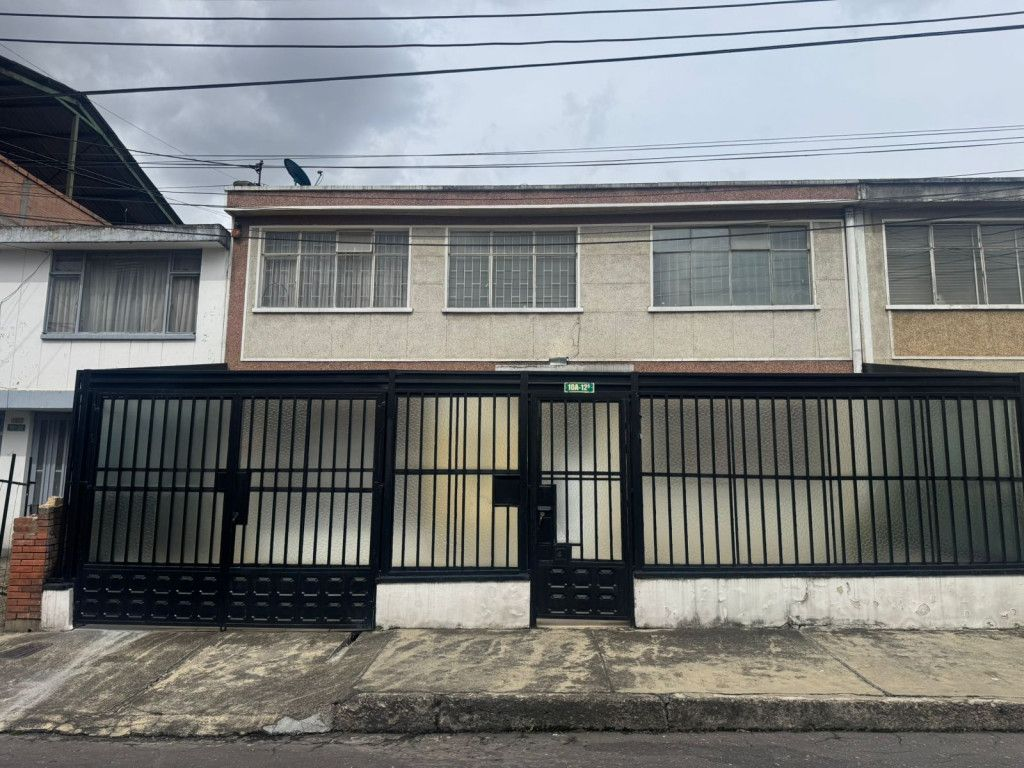House: (76, 157, 1021, 641)
